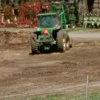Tractor: (23, 4, 75, 56)
